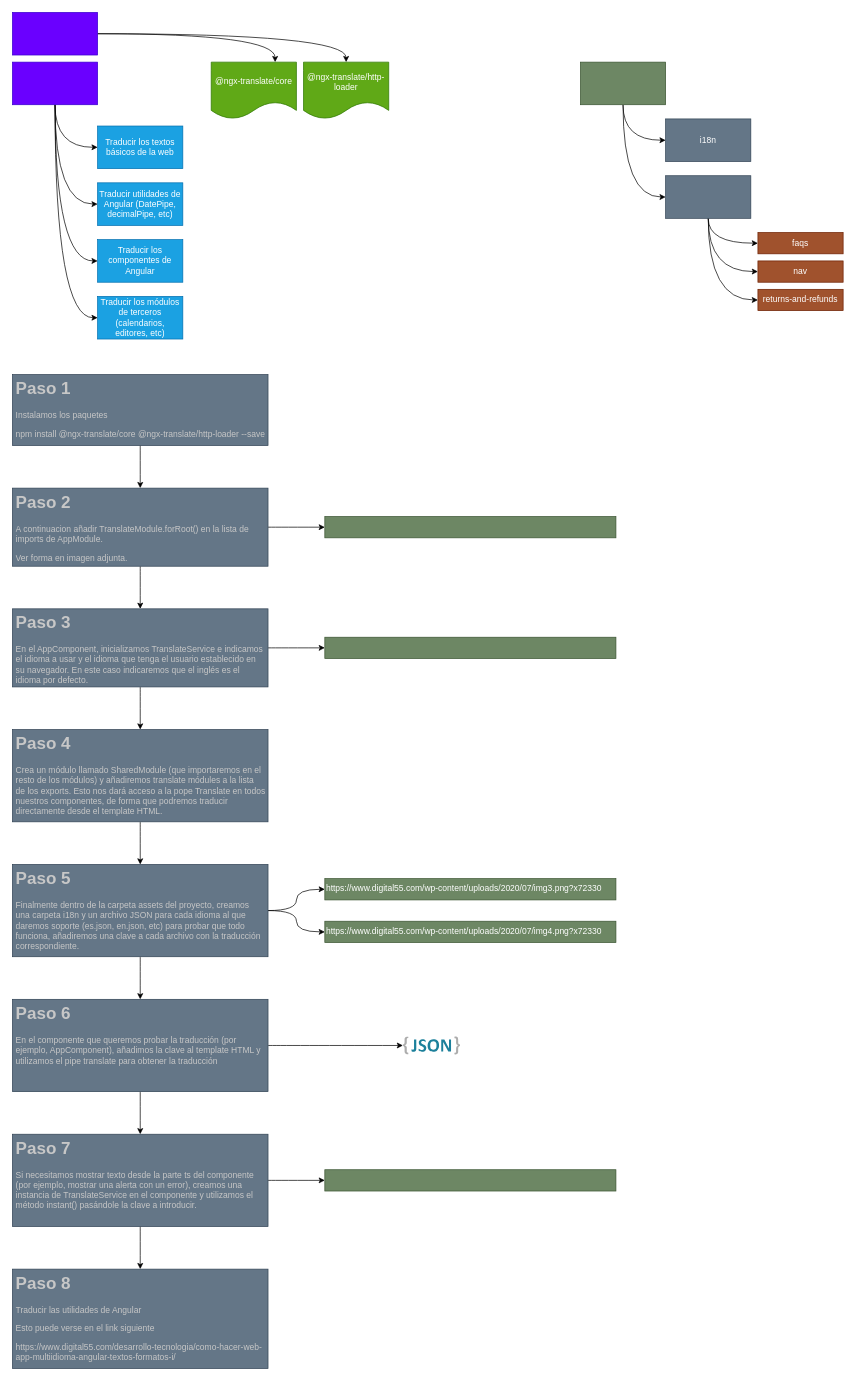
Image size: 856x1381. Some labels were removed from this diagram. The box of each missing label's shape, as (x1, y1, x2, y2) in pixels:
<p>{{ 'hello' | translate }}</p>: (402, 1036, 460, 1054)
assets: (580, 61, 666, 105)
data: (665, 175, 751, 218)
https://www.digital55.com/wp-content/uploads/2020/07/img1.png?x72330: (324, 516, 616, 538)
https://www.digital55.com/wp-content/uploads/2020/07/img2.png?x72330: (324, 637, 616, 659)
https://www.digital55.com/wp-content/uploads/2020/07/img6.png?x72330: (324, 1169, 616, 1191)
PAQUETES NECESARIOS: (12, 12, 98, 55)
PASOS GENERALES: (12, 61, 98, 105)
